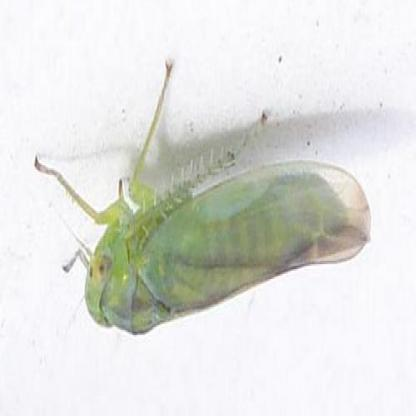green-leafhopper: (83, 146, 370, 336)
